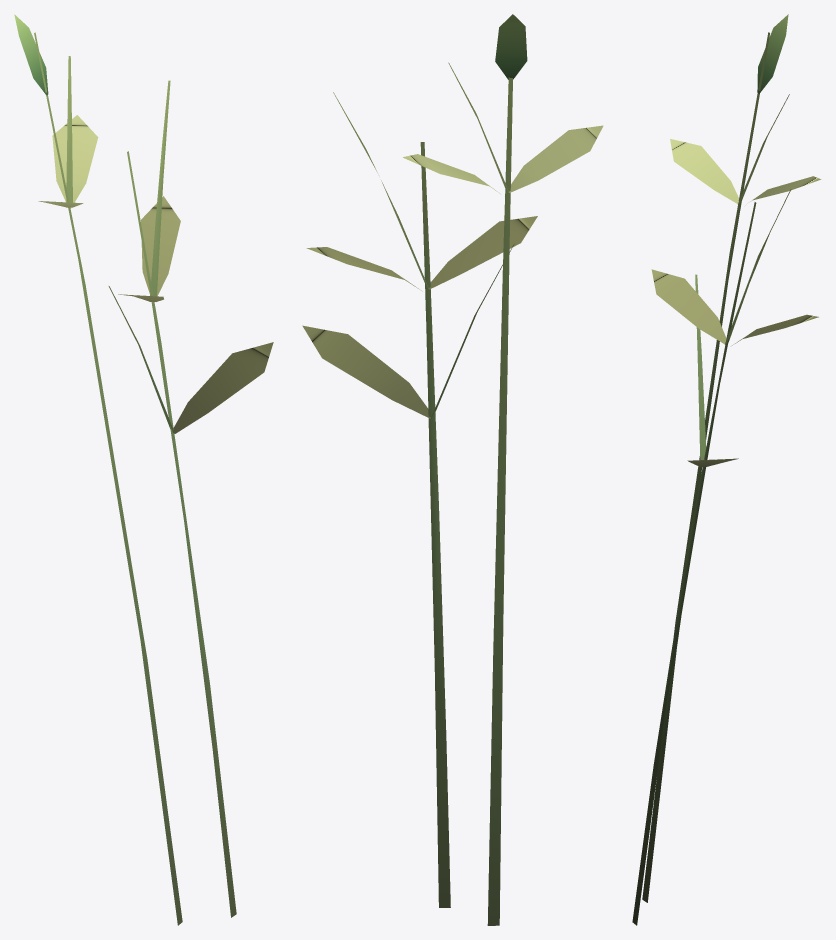
File: RagweedSprig_LOD1.glb
3 renders of one model, left to right at view 1: azimuth 30°, elevation 25°; view 2: azimuth 150°, elevation 25°; view 3: azimuth 270°, elevation 25°, orthographic. The views are drawn at different scales.
Visible parts, largest first — view 1: RagweedSprig_LOD1; view 2: RagweedSprig_LOD1; view 3: RagweedSprig_LOD1.
Part boxes in pixels (x1=…): RagweedSprig_LOD1: x1=14, y1=14, x2=273, y2=925; RagweedSprig_LOD1: x1=302, y1=14, x2=603, y2=925; RagweedSprig_LOD1: x1=632, y1=14, x2=821, y2=925.
Size of the model in its own units: 0.097 by 0.3322 by 0.0674.
